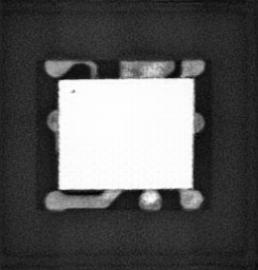DIE_INK: (68, 86, 76, 94)
